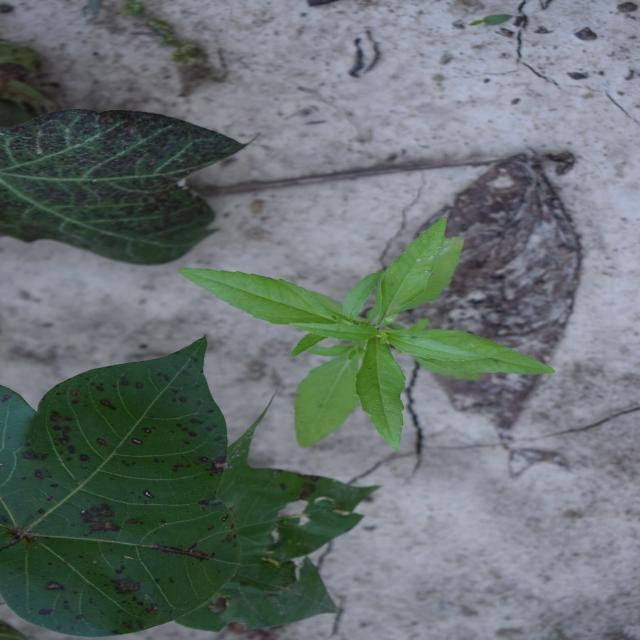Eclipta: (174, 216, 558, 452)
